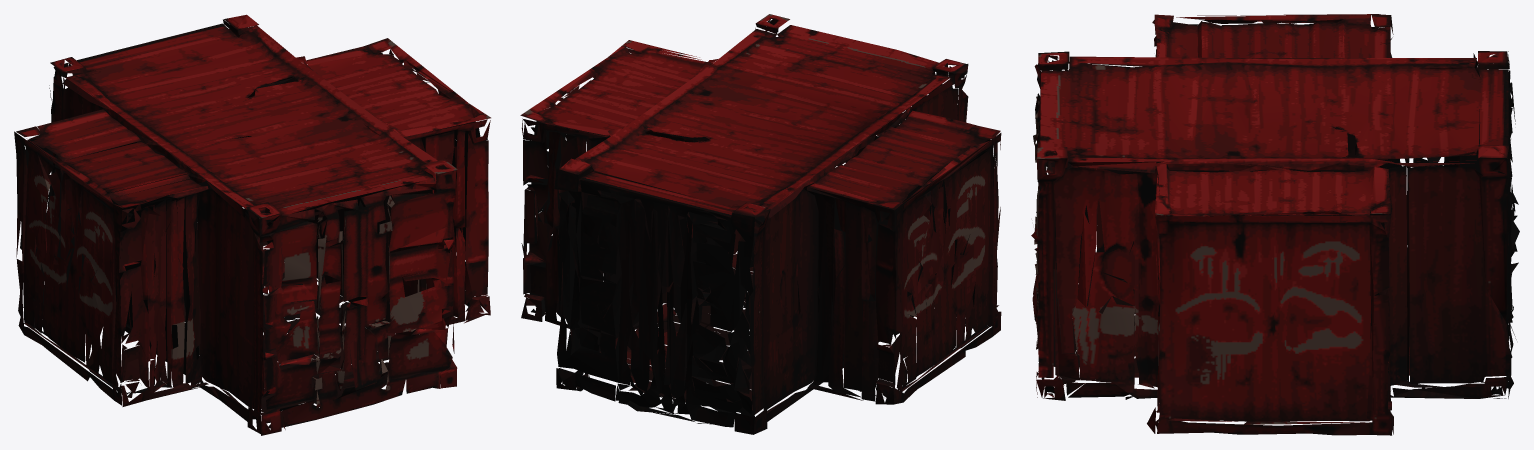
File: yd_container_1.glb
The picture shows the model from 3 angles, left to right: view 1: azimuth 30°, elevation 25°; view 2: azimuth 150°, elevation 25°; view 3: azimuth 270°, elevation 25°; orthographic projection. The views are drawn at different scales.
Parts seen in each view (by area): view 1: yd_container_1; view 2: yd_container_1; view 3: yd_container_1.
Part boxes in pixels (bbox=[...]): yd_container_1: bbox=[14, 14, 490, 435]; yd_container_1: bbox=[520, 14, 1001, 434]; yd_container_1: bbox=[1031, 14, 1519, 435].
Bounding box in the file's own units: 5.27 × 3.12 × 5.33.
1 material, 1 textured.
